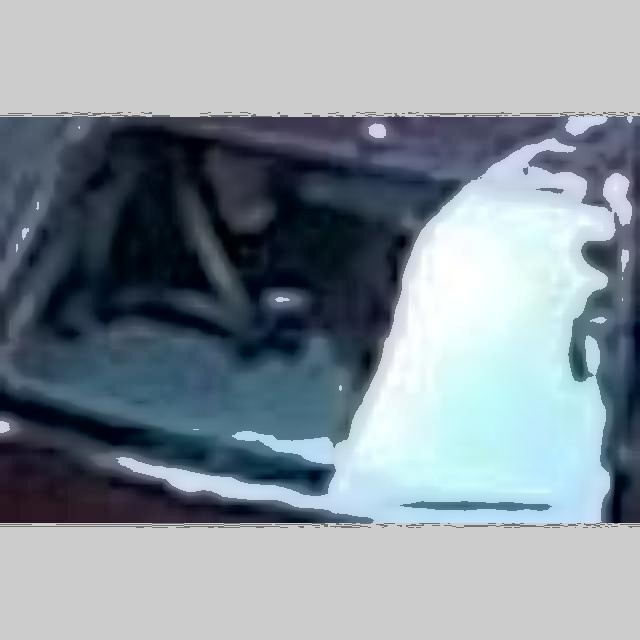pakai: (96, 172, 337, 385)
